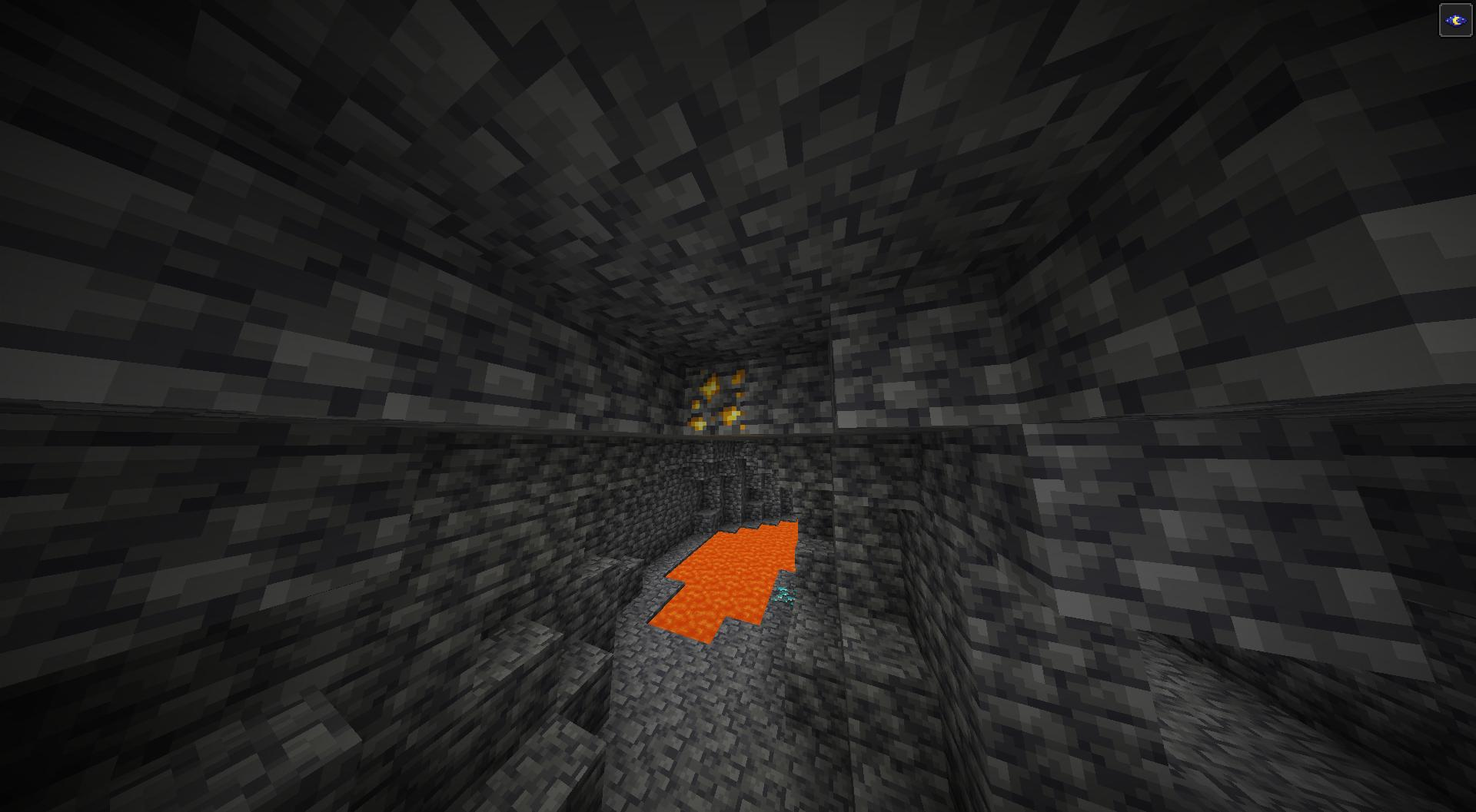diamond ore: (771, 583, 800, 609)
gold ore: (675, 361, 749, 433)
